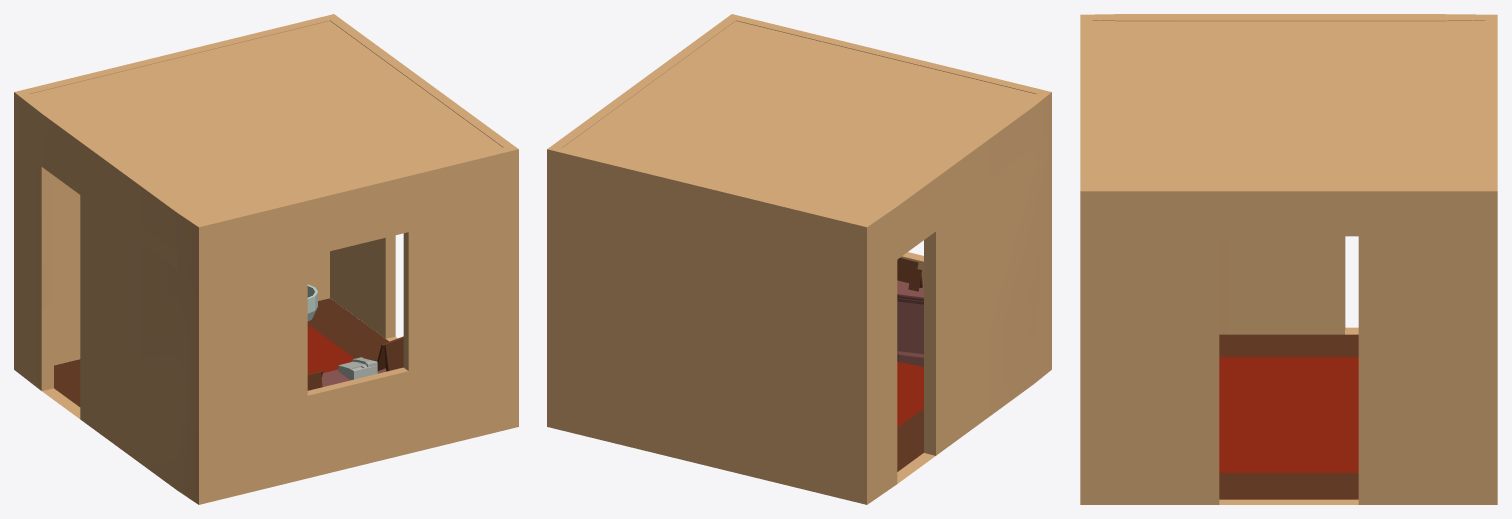
Rendered from Hall.glb.
3 views of the same model, side by side, from view 1: azimuth 30°, elevation 25°; view 2: azimuth 150°, elevation 25°; view 3: azimuth 270°, elevation 25° (orthographic). The views are drawn at different scales.
Parts seen in each view (by area): view 1: S_Hall.001, S_Carpet.001, S_Frame_04, S_Phone; view 2: S_Hall.001, S_Buffet, S_Carpet.001; view 3: S_Hall.001, S_Carpet.001.
Boxes of the visible parts, x1,y1,x2,y2 form: S_Hall.001: (14,14,518,504); S_Carpet.001: (307,326,354,373); S_Frame_04: (377,336,403,371); S_Phone: (338,357,377,380); S_Hall.001: (547,14,1051,504); S_Buffet: (897,280,923,365); S_Carpet.001: (897,362,923,427); S_Hall.001: (1080,14,1497,504); S_Carpet.001: (1219,357,1358,472).
Size of the model in its own units: 3.2 by 2.65 by 3.19.
